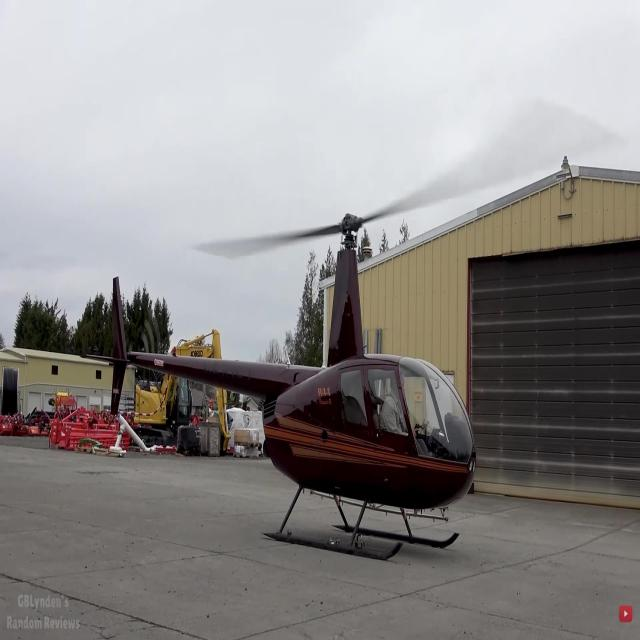CIV_HELO: (81, 212, 478, 568)
